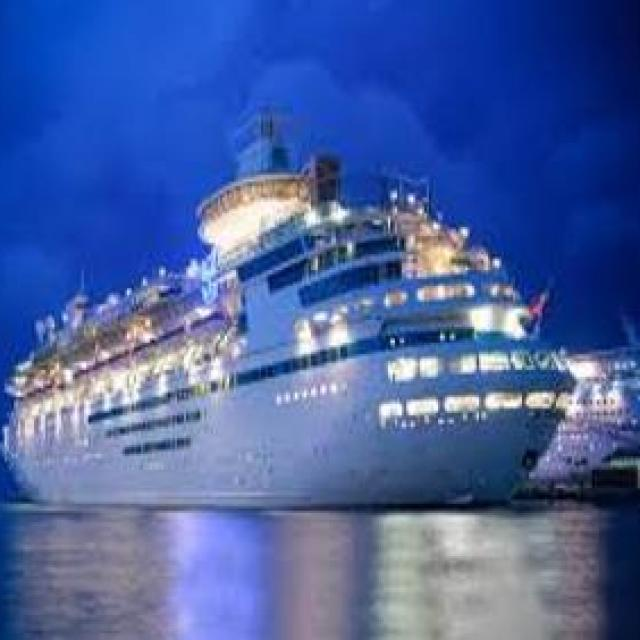passenger ship: (0, 107, 561, 499)
